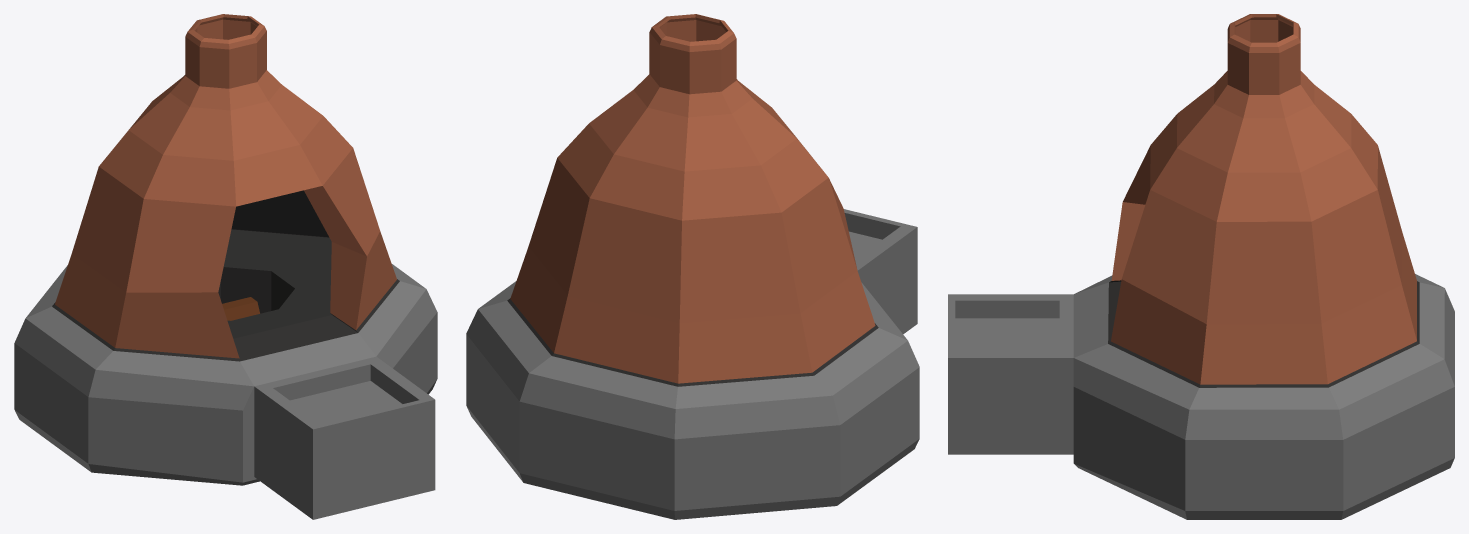
Rendered from Furnace.fbx.
The picture shows the model from 3 angles, left to right: view 1: azimuth 30°, elevation 25°; view 2: azimuth 150°, elevation 25°; view 3: azimuth 270°, elevation 25°; orthographic projection. The views are drawn at different scales.
Visible parts, largest first — view 1: Cube.019; view 2: Cube.019; view 3: Cube.019.
Part boxes in pixels (left/top/right/bottom): Cube.019: left=14, top=14, right=437, bottom=519; Cube.019: left=466, top=14, right=919, bottom=519; Cube.019: left=948, top=14, right=1454, bottom=519.
Bounding box in the file's own units: 2.09 × 2.18 × 2.46.
